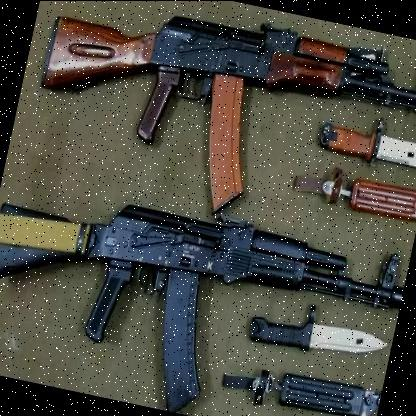rifle: (0, 163, 412, 416), (22, 0, 416, 241)
